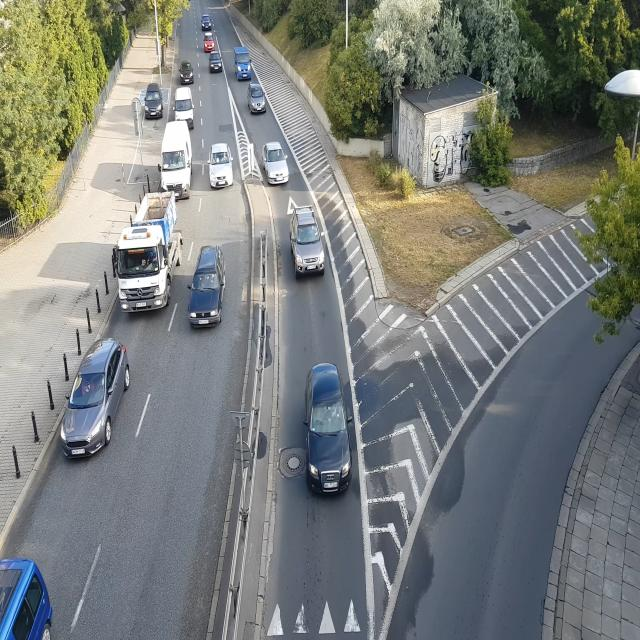car: (58, 340, 136, 467), (296, 361, 359, 498), (0, 557, 55, 640), (188, 246, 226, 327), (159, 121, 193, 198), (291, 204, 325, 277), (260, 141, 290, 186), (210, 142, 234, 189), (173, 85, 195, 122), (249, 82, 270, 115), (143, 88, 165, 118), (234, 51, 253, 80), (179, 51, 195, 85), (210, 53, 226, 73), (202, 37, 217, 54), (200, 16, 212, 31)
truck: (112, 201, 178, 314)
